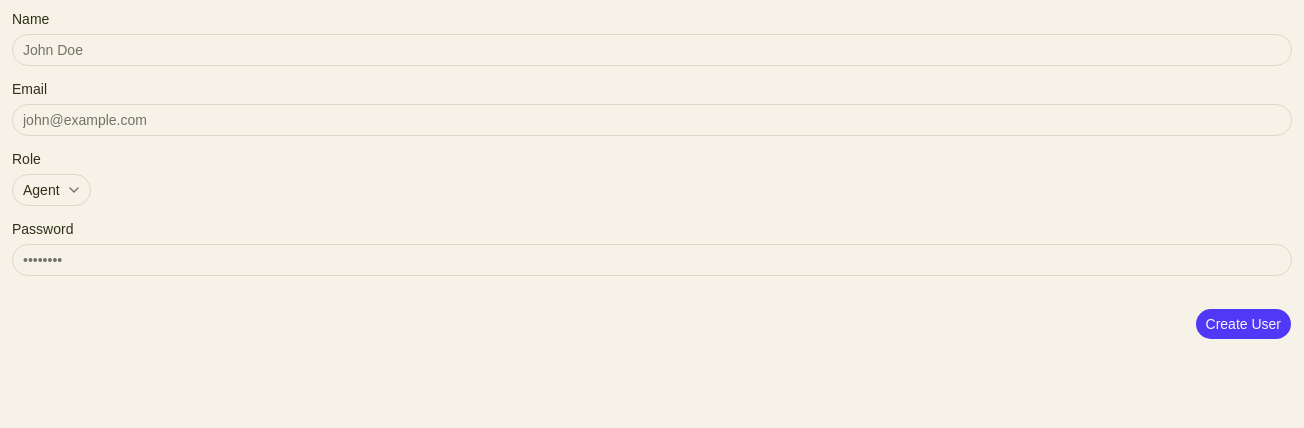
Test case: UserForm Component › shows validation errors for empty fields on submit
Click the button "Create User". click: click(1243, 324)
box: [1194,308,1292,340]
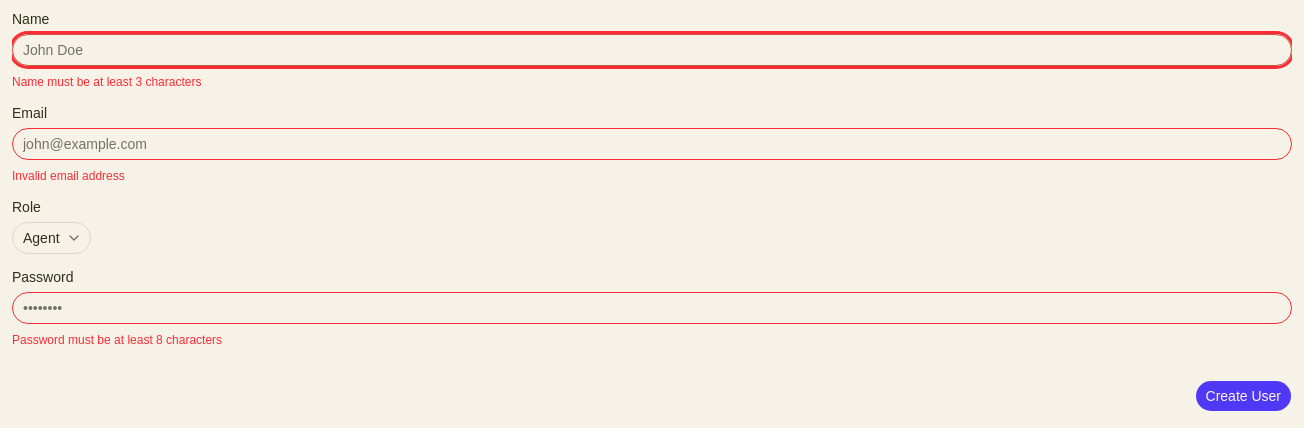
Expected: the text "Name must be at least 3 characters" is shown, [12,75,201,89]
Expected: the text "Invalid email address" is shown, [12,169,125,183]
Expected: the text "Password must be at least 8 characters" is shown, [12,333,222,347]
